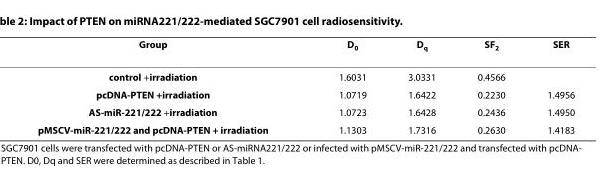table: (36, 37, 574, 135)
table column: (36, 37, 302, 135), (302, 37, 386, 135), (386, 37, 456, 135), (456, 37, 525, 135), (525, 37, 574, 135)
table column header: (36, 37, 574, 60)
table row: (36, 60, 574, 84), (36, 37, 574, 60), (36, 84, 574, 102), (36, 102, 574, 120), (36, 120, 574, 135)
